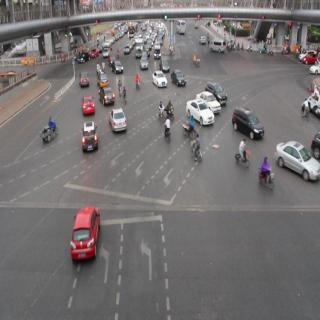Car: (276, 135, 318, 188), (71, 204, 101, 263), (232, 104, 264, 144), (186, 97, 213, 132), (208, 75, 229, 105), (82, 120, 99, 152), (109, 107, 128, 134), (99, 88, 116, 105), (210, 37, 226, 54), (171, 70, 186, 88), (81, 95, 96, 112), (153, 71, 166, 89), (302, 50, 317, 64), (97, 72, 109, 88), (112, 60, 124, 74), (80, 70, 91, 85), (138, 57, 149, 70), (76, 51, 88, 62), (152, 48, 162, 59), (161, 59, 170, 71), (140, 58, 150, 68), (90, 47, 98, 59), (199, 35, 207, 46), (124, 44, 131, 56), (102, 47, 109, 58), (134, 49, 143, 57)
